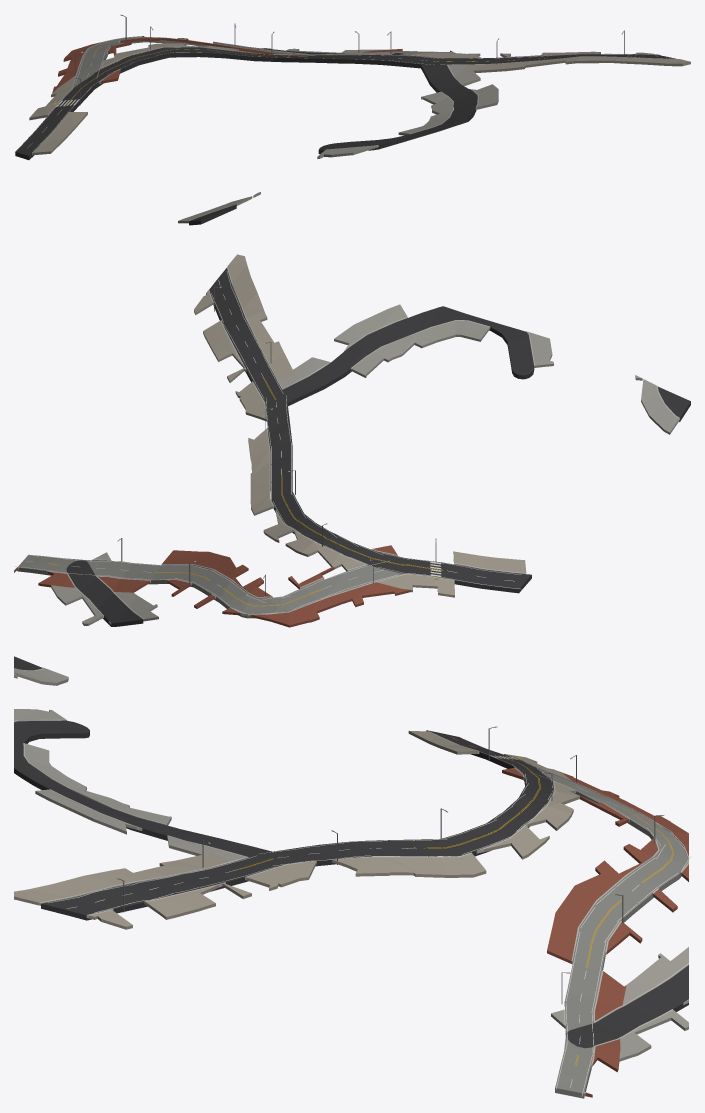
The picture shows the model from 3 angles, top to bottom: view 1: azimuth 30°, elevation 25°; view 2: azimuth 150°, elevation 25°; view 3: azimuth 270°, elevation 25°; orthographic projection. The views are drawn at different scales.
Bounding box in the file's own units: 149 × 49 × 146.
